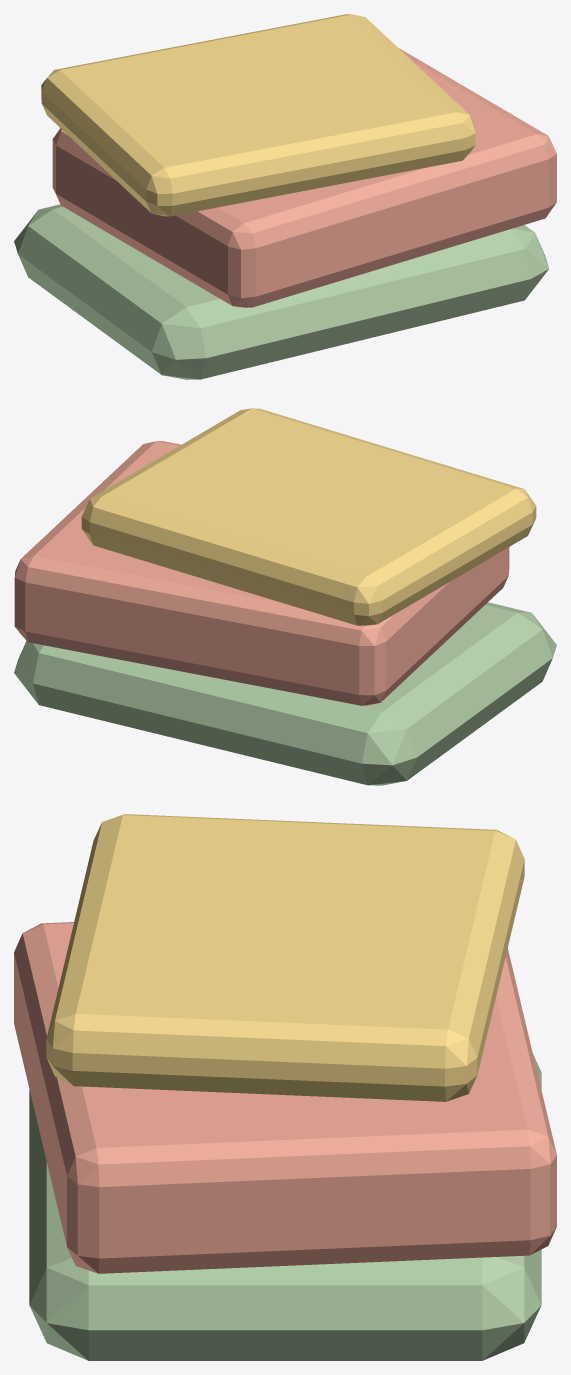
File: cozy-home-interiors-board-game-stack-a92b9283.glb
3 views of the same model, one above another, from view 1: azimuth 30°, elevation 25°; view 2: azimuth 150°, elevation 25°; view 3: azimuth 270°, elevation 25° (orthographic). The views are drawn at different scales.
Parts seen in each view (by area): view 1: board-game-stack; view 2: board-game-stack; view 3: board-game-stack.
Part boxes in pixels (<box>): board-game-stack: <box>14,14,556,379</box>; board-game-stack: <box>14,408,556,785</box>; board-game-stack: <box>14,814,556,1360</box>.
Size of the model in its own units: 0.3502 by 0.17 by 0.2757.
